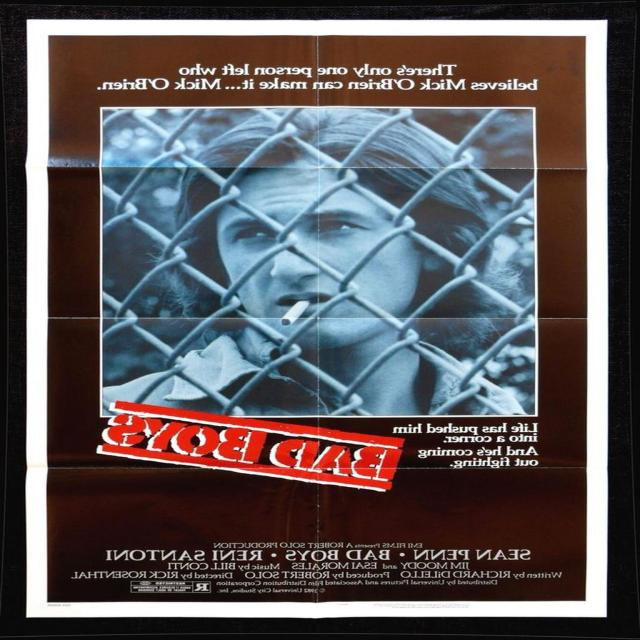smoking: (101, 107, 536, 418)
